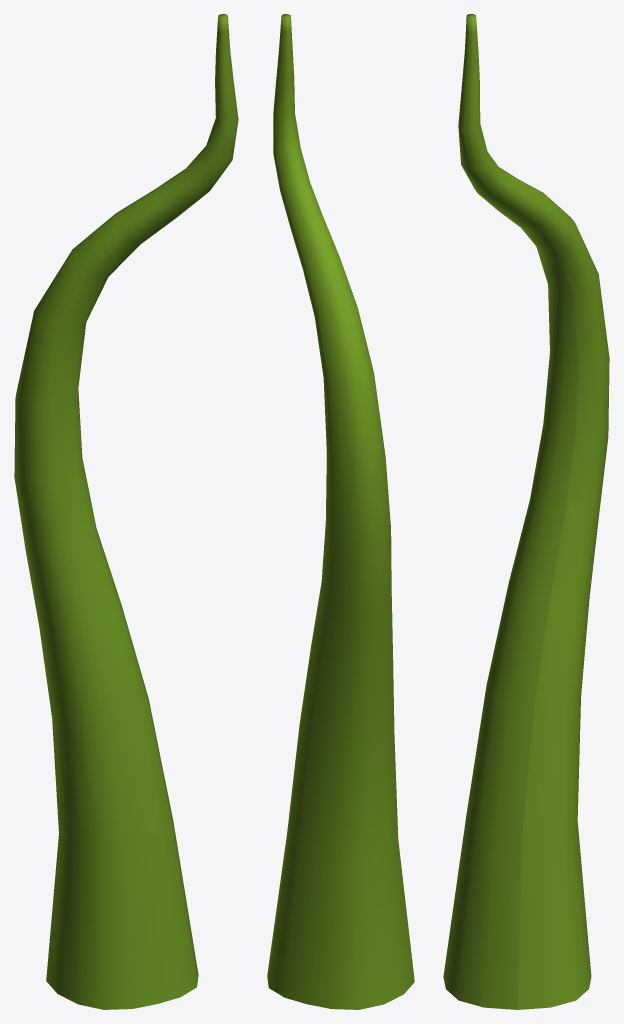
The model's file is LeafPlatform_stalk_2.fbx.
3 renders of one model, left to right at view 1: azimuth 30°, elevation 25°; view 2: azimuth 150°, elevation 25°; view 3: azimuth 270°, elevation 25°, orthographic. The views are drawn at different scales.
Visible parts, largest first — view 1: Object014; view 2: Object014; view 3: Object014.
Boxes of the visible parts, x1=… form: Object014: x1=14, y1=14, x2=238, y2=1009; Object014: x1=267, y1=14, x2=414, y2=1009; Object014: x1=443, y1=14, x2=609, y2=1009.
Bounding box in the file's own units: 8.26 × 45.53 × 6.85.
